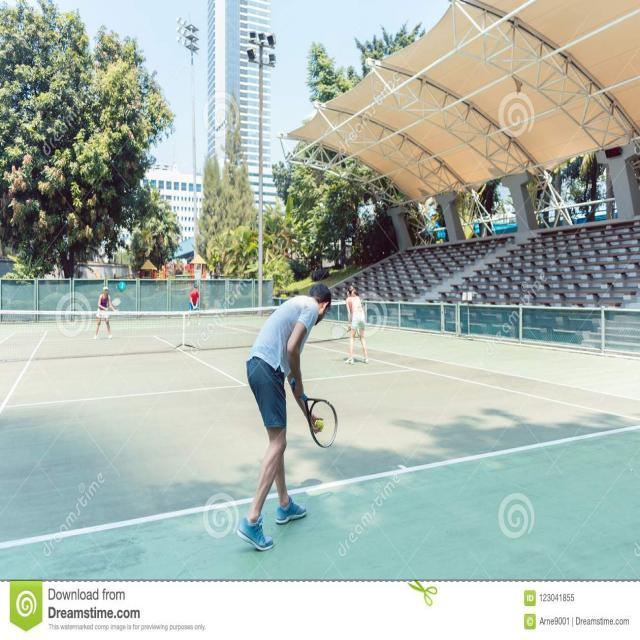court: (0, 323, 634, 574)
net: (0, 300, 353, 354)
player: (218, 270, 346, 554), (341, 274, 369, 372)
